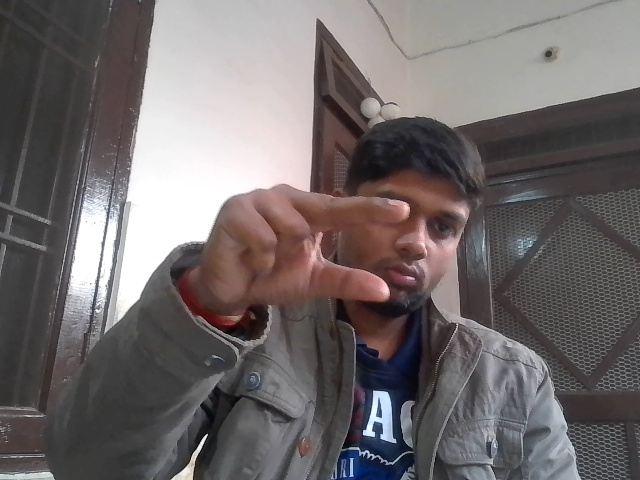No: (174, 166, 436, 329)
